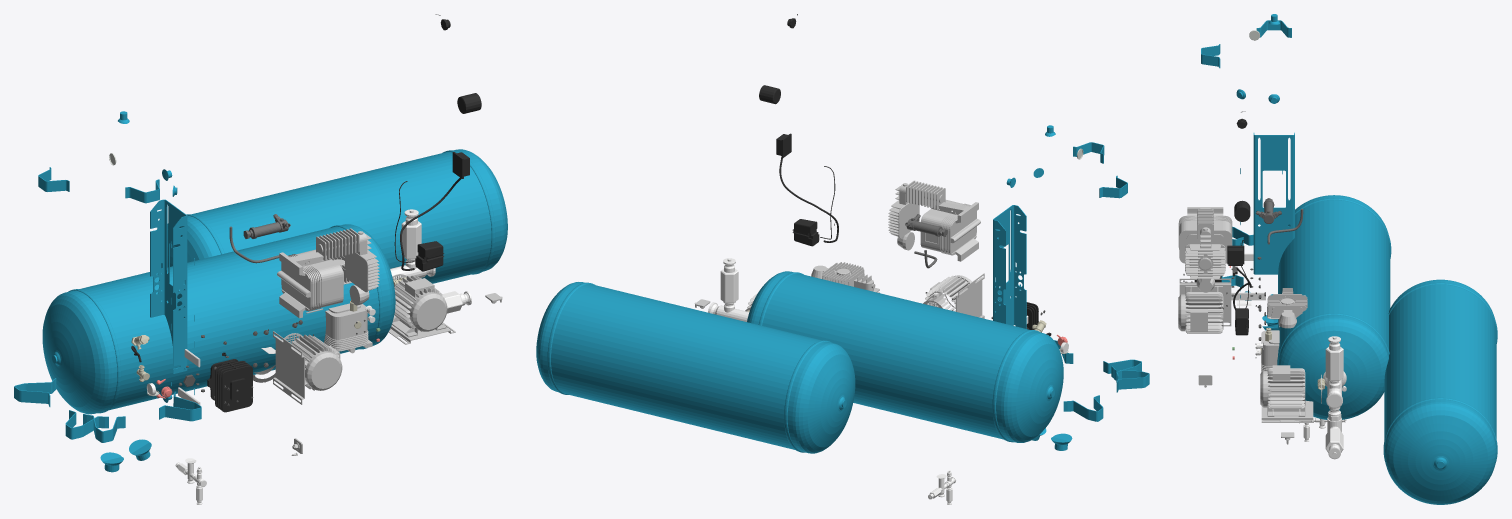
Rendered from AC04anim2nd.glb.
The picture shows the model from 3 angles, left to right: view 1: azimuth 30°, elevation 25°; view 2: azimuth 150°, elevation 25°; view 3: azimuth 270°, elevation 25°; orthographic projection. The views are drawn at different scales.
Parts seen in each view (by area): view 1: E002CILI, E002ENCH001_1, E002ALUM, E002AZUL, E002ENCH_1, E002PLNE, E002AZUL001, E002MNEG, E002GRIF002, E002PLAT, sanada001_1; view 2: E002ENCH001_1, E002CILI, E002ALUM, E002AZUL, E002PLNE, E002AZUL001, E002ENCH_1, E002GRIF002; view 3: E002ENCH001_1, E002CILI, E002ALUM, E002AZUL, E002ENCH_1, E002GRIF002, E002PLNE, E002AZUL001, E002PLAT, E002BLAN.
Part boxes in pixels (x1,y1,x2,y2): E002CILI: (42,224,395,414); E002ENCH001_1: (161,149,507,283); E002ALUM: (273,228,379,455); E002AZUL: (83,169,201,472); E002ENCH_1: (306,255,502,353); E002PLNE: (394,14,481,271); E002AZUL001: (14,111,129,439); E002MNEG: (207,352,252,412); E002GRIF002: (390,209,471,316); E002PLAT: (229,214,290,382); sanada001_1: (175,458,206,504); E002ENCH001_1: (536,282,855,453); E002CILI: (747,271,1063,442); E002ALUM: (888,180,984,318); E002AZUL: (993,142,1141,450); E002PLNE: (759,14,838,246); E002AZUL001: (1045,125,1149,421); E002ENCH_1: (694,262,879,311); E002GRIF002: (708,258,749,321); E002ENCH001_1: (1383,279,1497,504); E002CILI: (1277,195,1391,419); E002ALUM: (1178,207,1239,387); E002AZUL: (1201,44,1294,330); E002ENCH_1: (1260,288,1322,444); E002GRIF002: (1323,336,1346,459); E002PLNE: (1220,111,1251,335); E002AZUL001: (1232,14,1291,245); E002PLAT: (1255,198,1303,244); E002BLAN: (1231,253,1265,300).
Size of the model in its own units: 5691 by 4627 by 3193.
